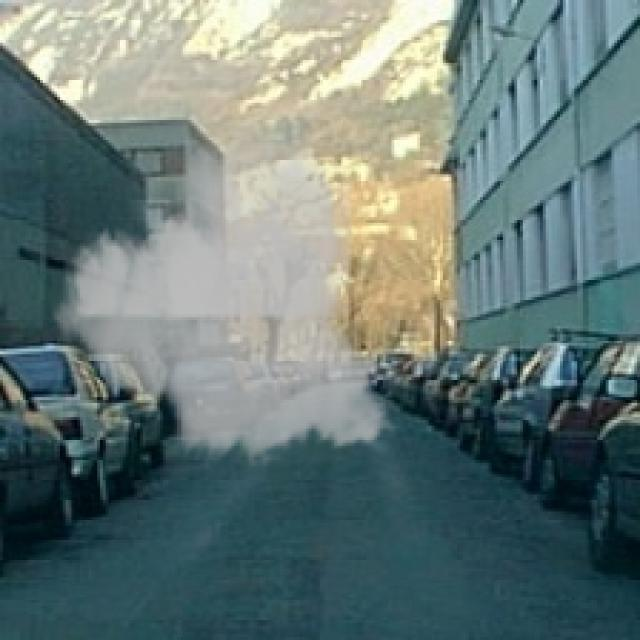Smoke: (43, 117, 406, 472)
